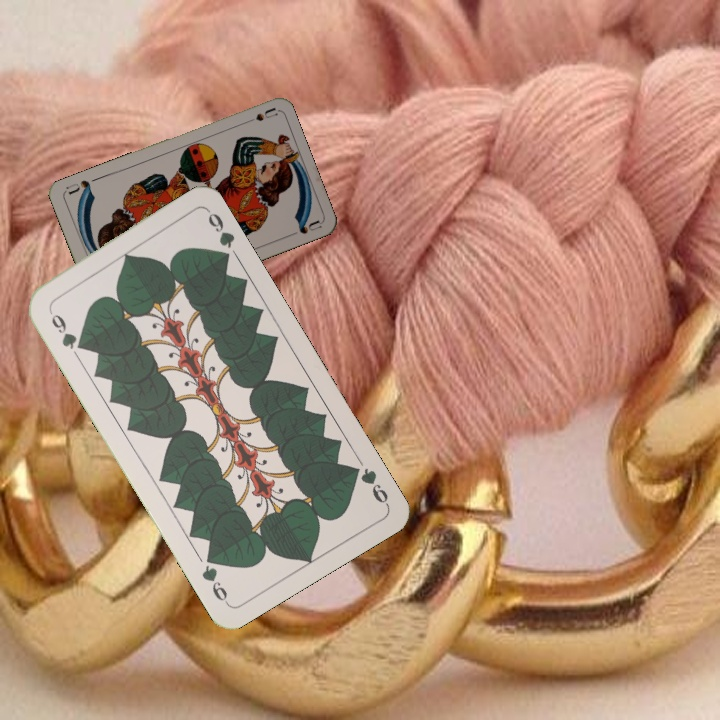G9: (345, 461, 391, 508), (44, 303, 87, 353)
SU: (239, 104, 279, 127)
